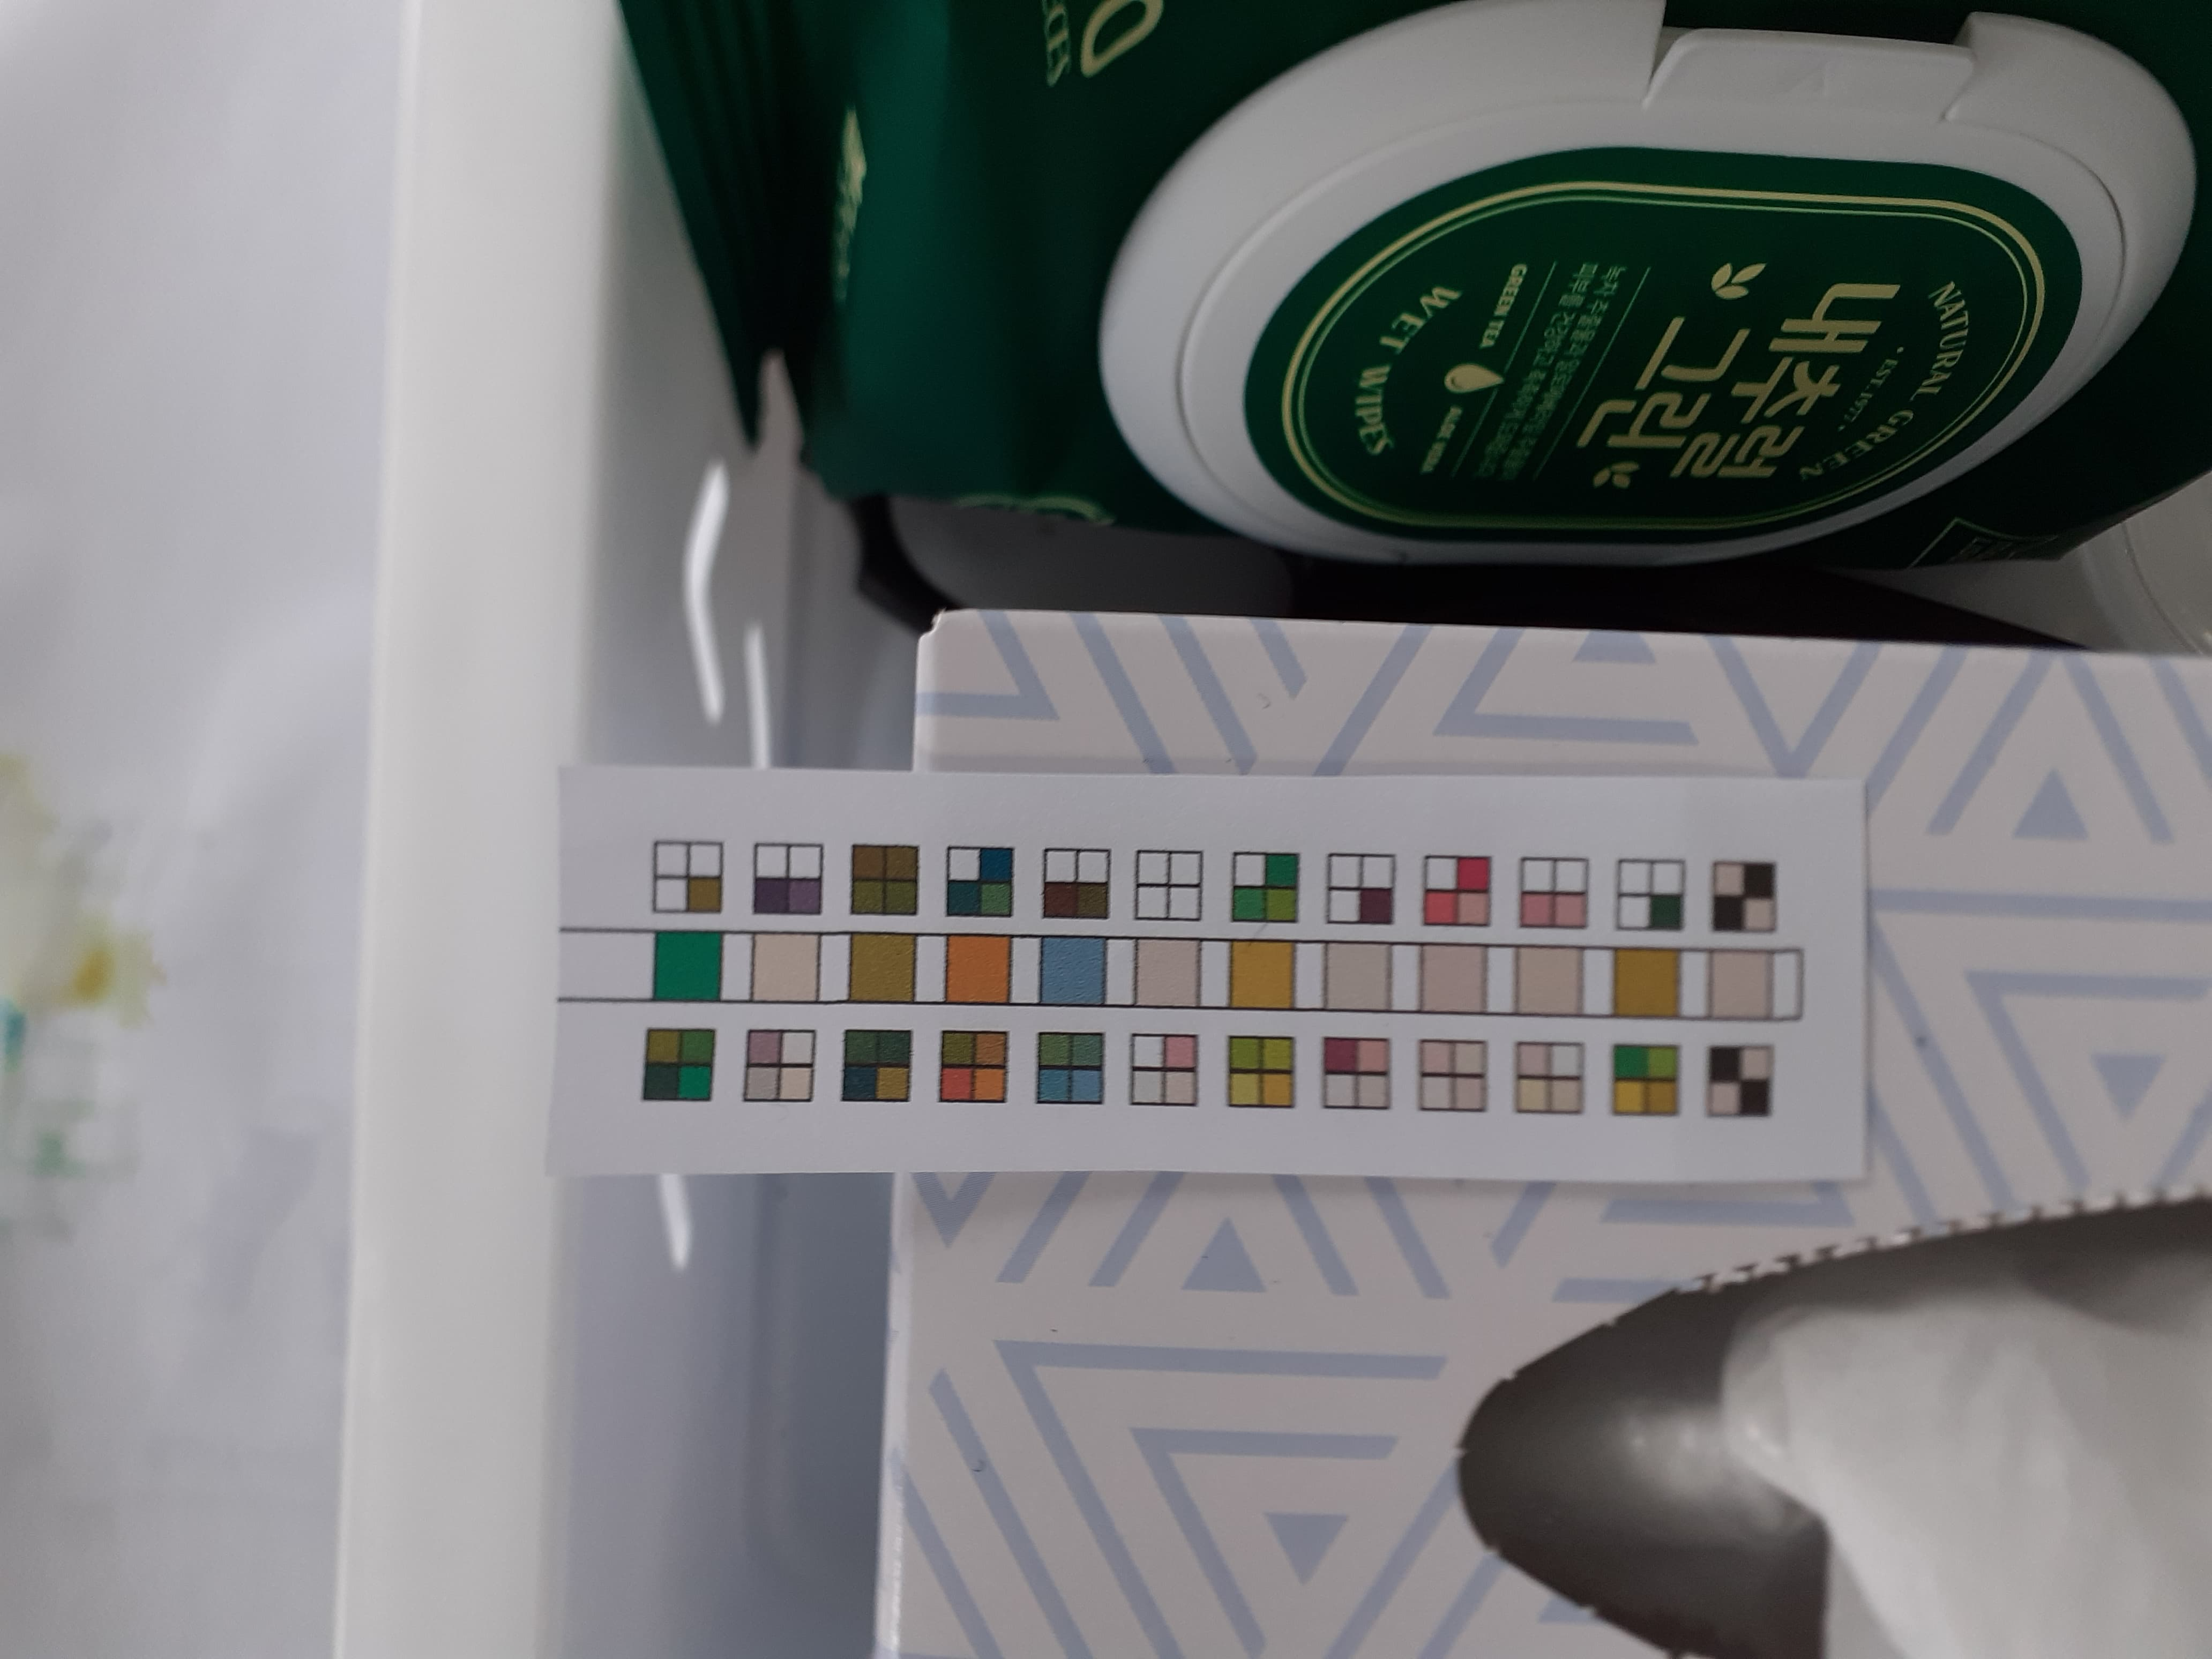tester: (556, 762, 1871, 1183)
